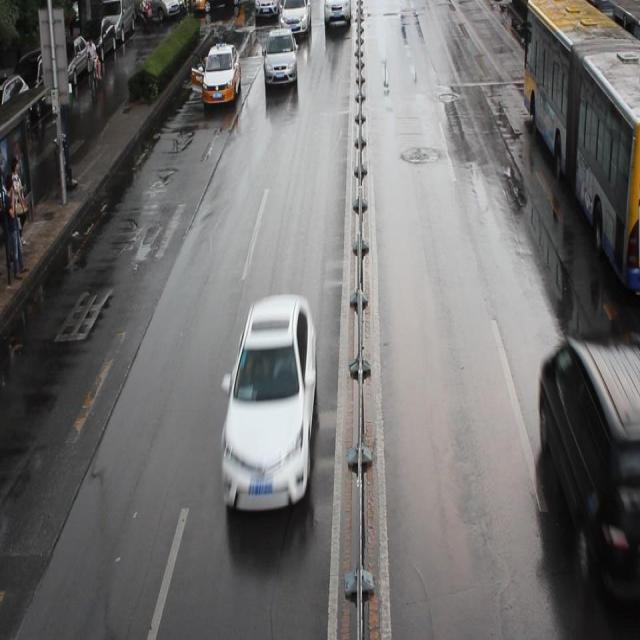car: (221, 296, 317, 513), (201, 43, 240, 104), (261, 29, 297, 87), (279, 2, 311, 34), (322, 1, 350, 25), (253, 1, 279, 19)
truck: (536, 332, 640, 640)
van: (521, 2, 640, 290)
